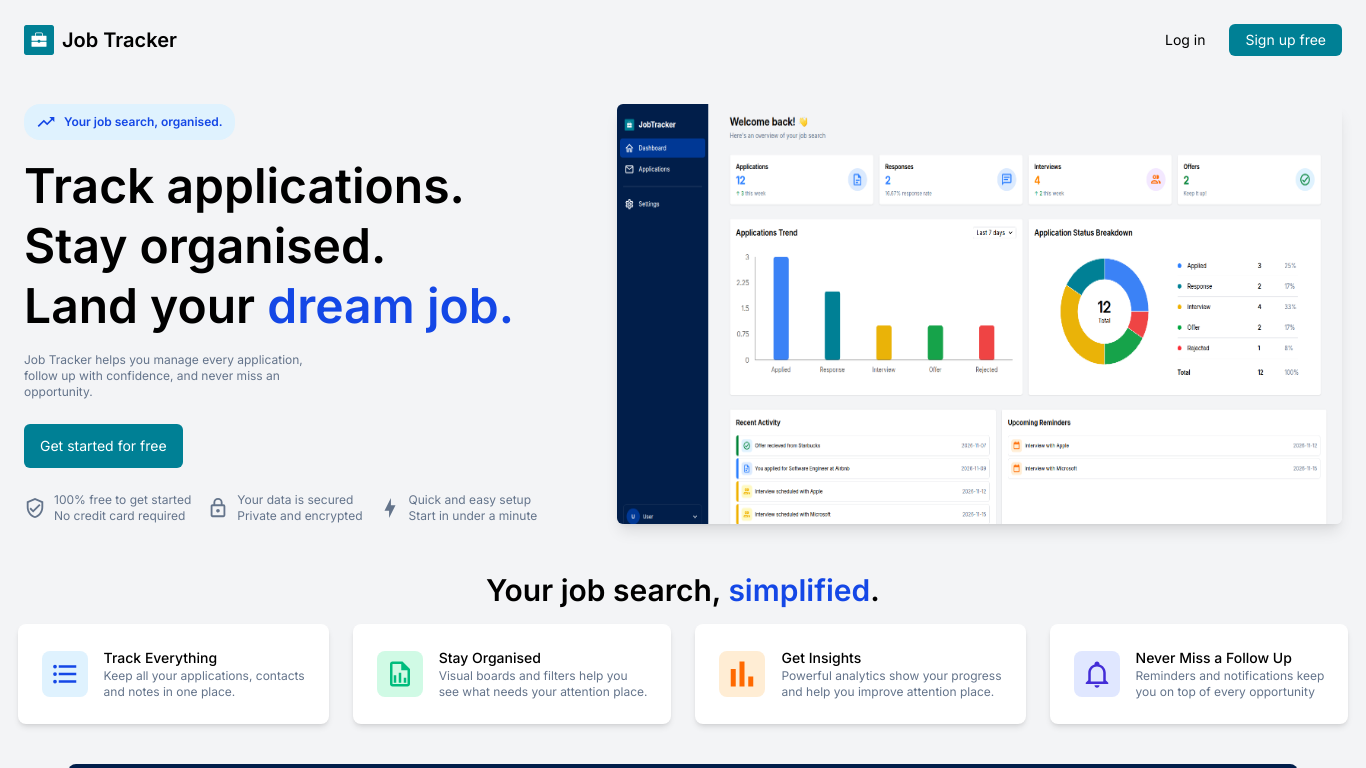
Homepage › sign up free button takes you to signup page
The width and height of the screenshot is (1366, 768).
Step 1. Click the link "Sign up free" → click(1286, 40), box [1230, 24, 1342, 56]
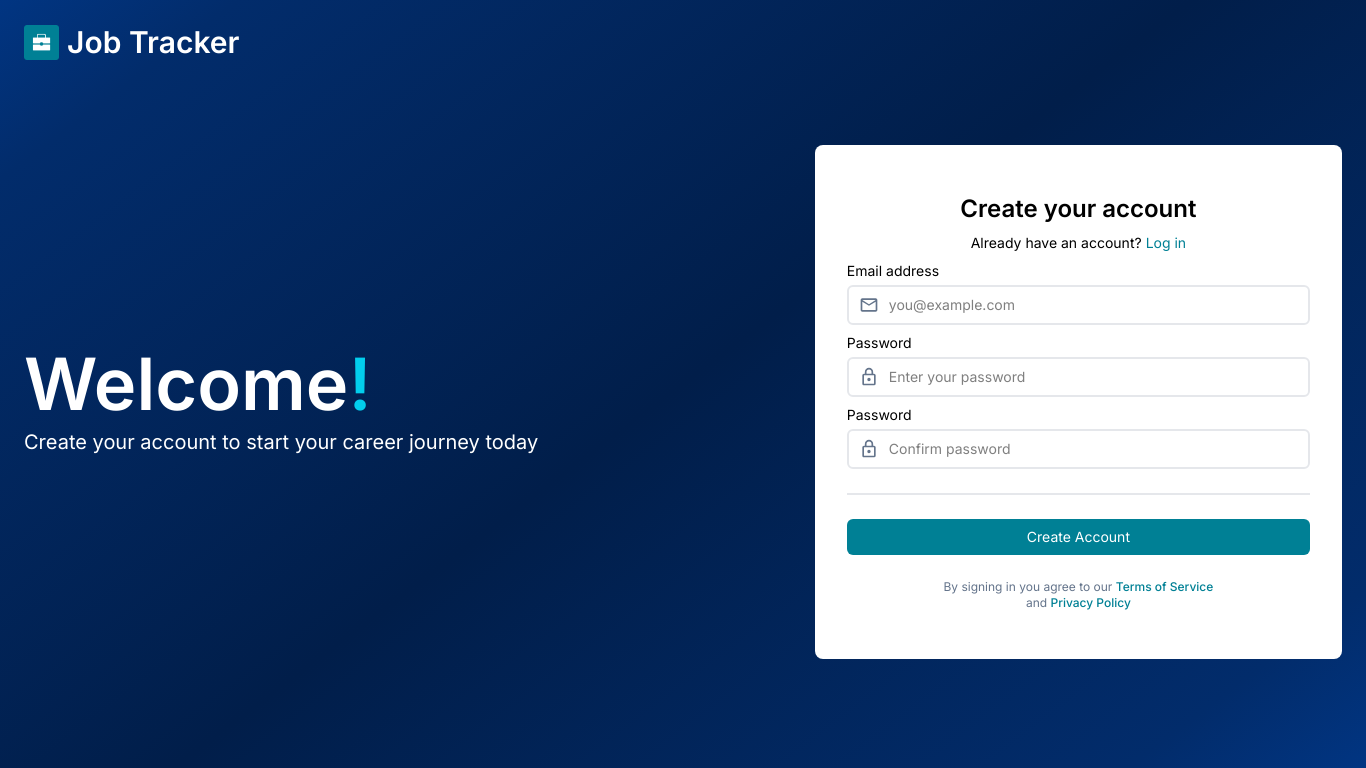
Expected: the heading "Create your account" is shown, [960, 193, 1196, 225]
